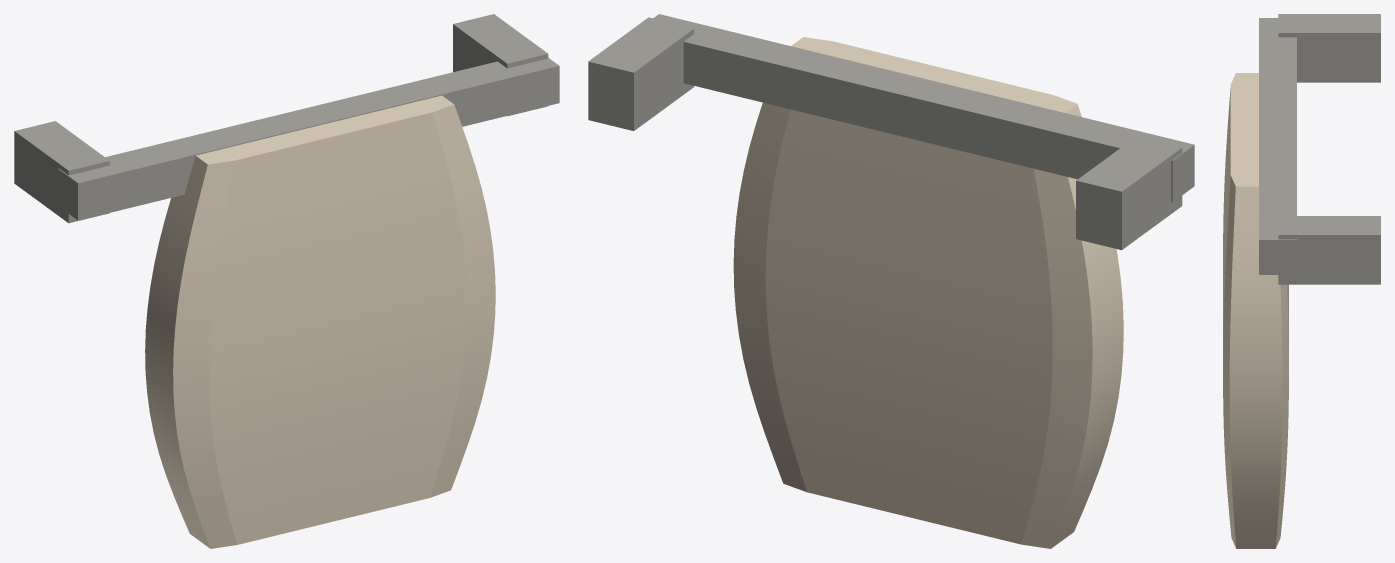
Rendered from towel_rack.glb.
3 views of the same model, side by side, from view 1: azimuth 30°, elevation 25°; view 2: azimuth 150°, elevation 25°; view 3: azimuth 270°, elevation 25° (orthographic). The views are drawn at different scales.
Visible parts, largest first — view 1: Hanging towel, Towel bar, Wall bracket, Wall bracket.001; view 2: Hanging towel, Towel bar, Wall bracket, Wall bracket.001; view 3: Hanging towel, Towel bar, Wall bracket.001, Wall bracket.
Part boxes in pixels (<box>): Hanging towel: <box>145,95,495,548</box>; Towel bar: <box>58,58,559,220</box>; Wall bracket: <box>14,121,109,223</box>; Wall bracket.001: <box>453,14,548,116</box>; Hanging towel: <box>733,37,1123,548</box>; Towel bar: <box>653,14,1194,202</box>; Wall bracket: <box>1076,136,1182,250</box>; Wall bracket.001: <box>588,17,694,130</box>; Hanging towel: <box>1223,73,1288,548</box>; Towel bar: <box>1259,18,1296,274</box>; Wall bracket.001: <box>1278,216,1380,284</box>; Wall bracket: <box>1278,14,1380,82</box>.
Bounding box in the file's own units: 0.527 × 0.409 × 0.1586.
